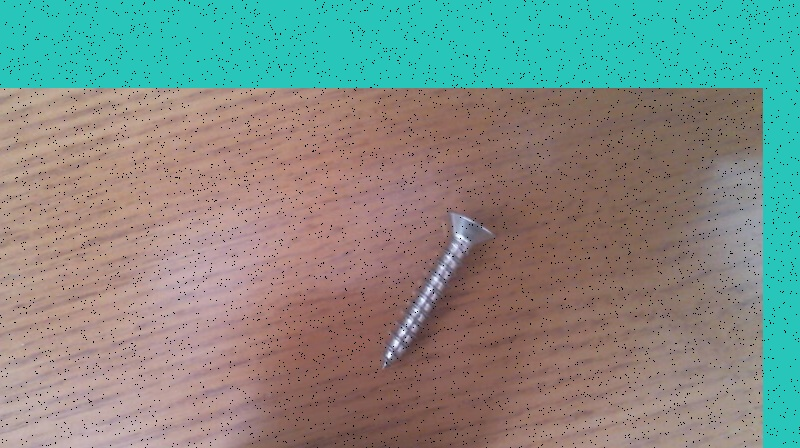S001: (373, 207, 497, 378)
